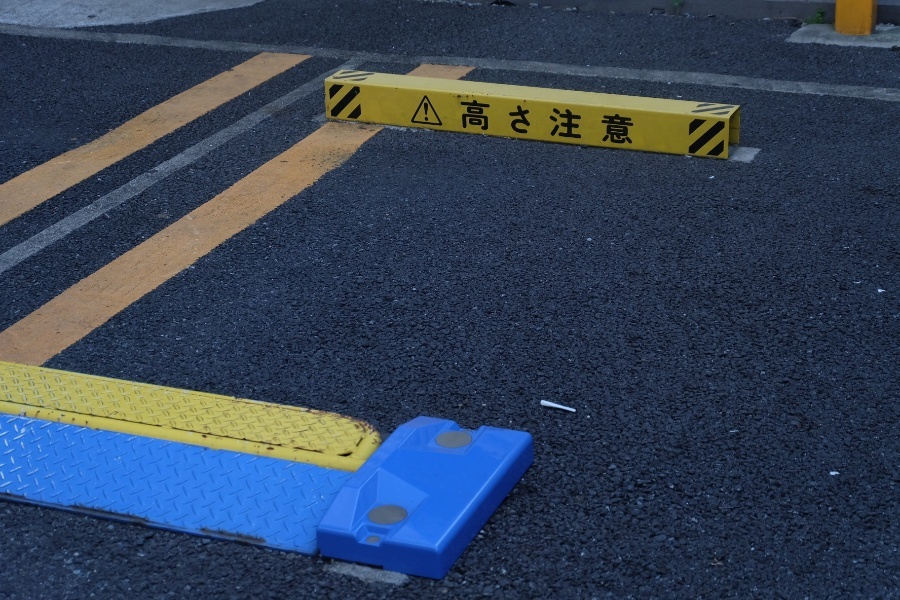text: (433, 94, 448, 146), (449, 94, 464, 146), (465, 94, 480, 146), (481, 94, 496, 146), (497, 94, 512, 146), (513, 94, 528, 146), (529, 94, 544, 146), (545, 94, 560, 146), (561, 94, 576, 146), (577, 94, 592, 146), (593, 94, 608, 146), (609, 94, 624, 146), (625, 94, 636, 146), (424, 94, 432, 146)
